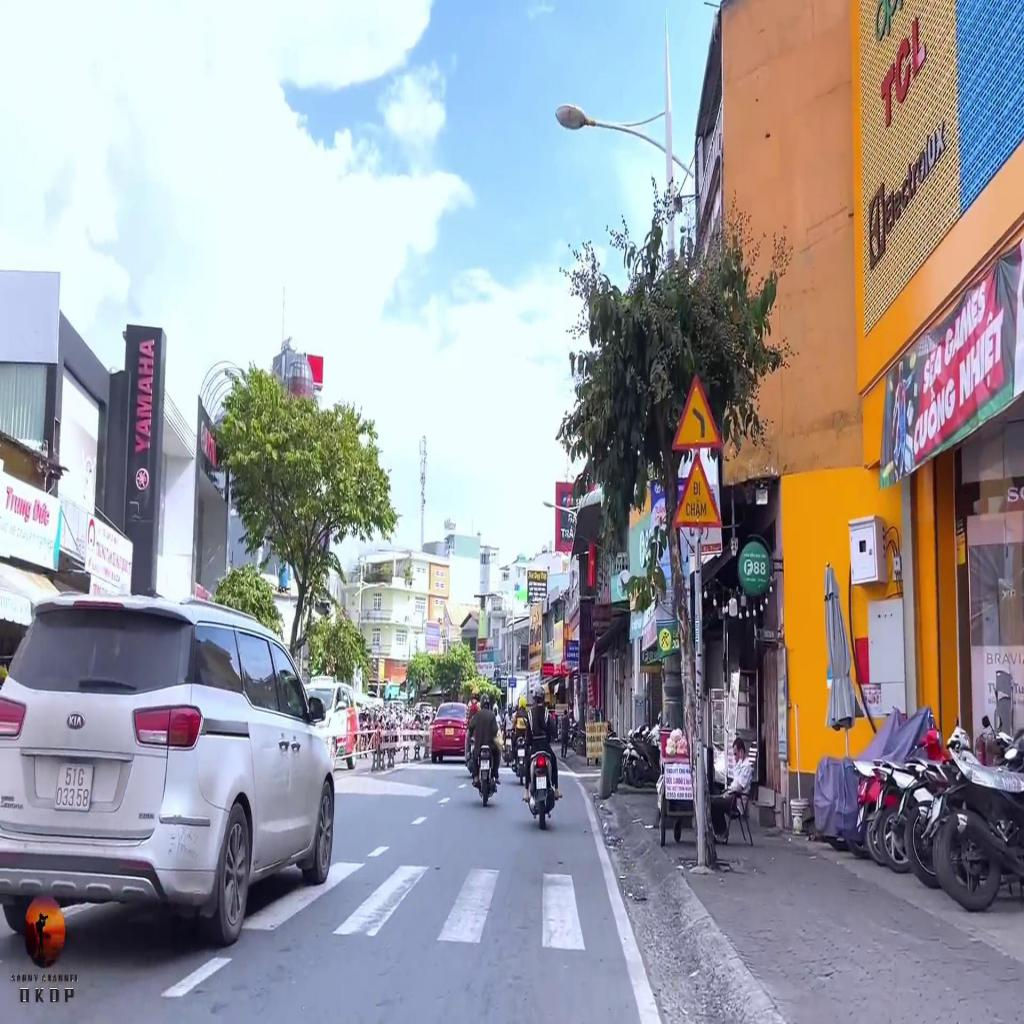cho_ngoat_nguy_hiem_ben_trai: (670, 368, 721, 448)
di_cham: (670, 448, 722, 528)
